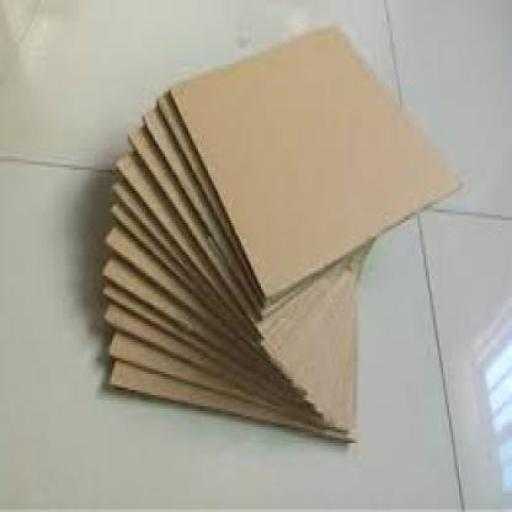cardboard: (100, 21, 459, 441), (166, 18, 459, 297)
